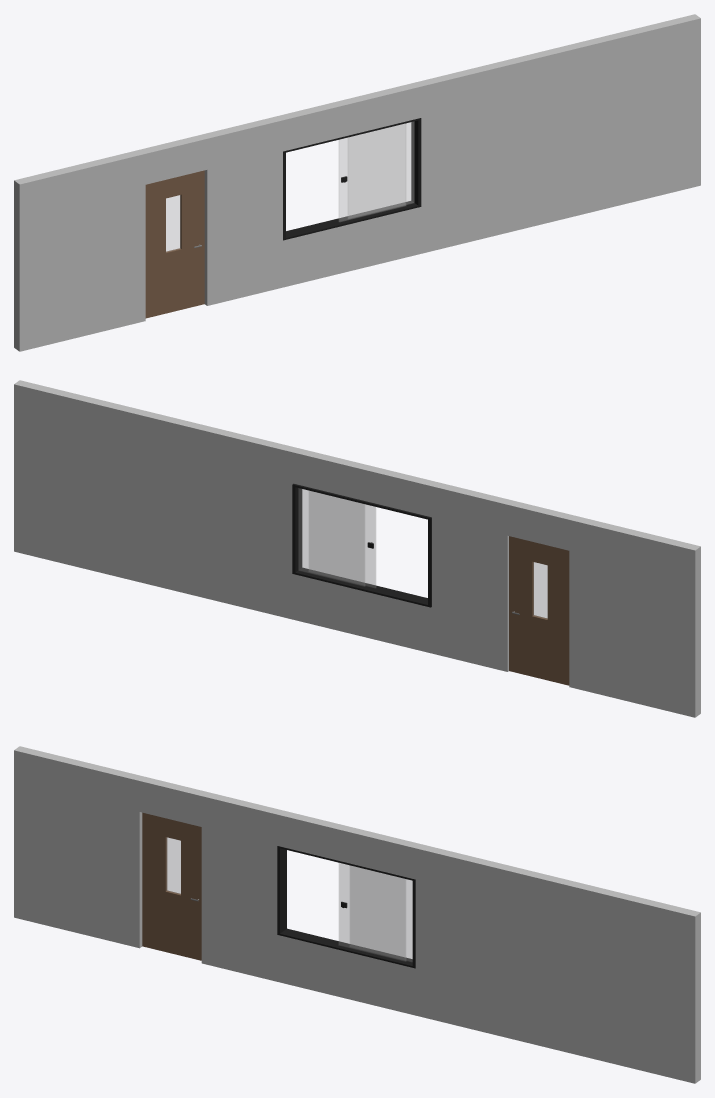
The model's file is ParedeOeste.fbx.
3 renders of one model, top to bottom at view 1: azimuth 30°, elevation 25°; view 2: azimuth 150°, elevation 25°; view 3: azimuth 330°, elevation 25°, orthographic.
Parts seen in each view (by area): view 1: Cube.002, Cube, Cube.001; view 2: Cube.002, Cube, Cube.001; view 3: Cube.002, Cube, Cube.001.
Part boxes in pixels (<box>): Cube.002: <box>14,14,700,351</box>; Cube: <box>283,118,421,240</box>; Cube.001: <box>145,170,204,318</box>; Cube.002: <box>14,380,700,717</box>; Cube: <box>292,483,431,607</box>; Cube.001: <box>509,536,569,685</box>; Cube.002: <box>14,746,700,1083</box>; Cube: <box>277,846,415,968</box>; Cube.001: <box>142,812,201,960</box>.
Bounding box in the file's own units: 2207 × 518 × 39.91.
